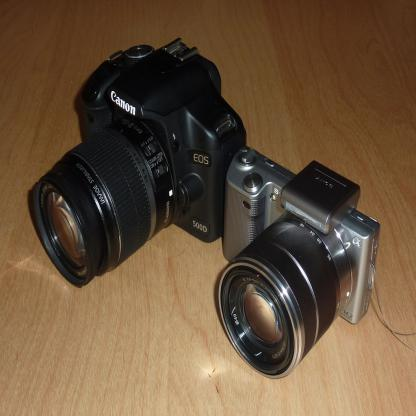Camera: (31, 38, 248, 290), (219, 142, 383, 380)
